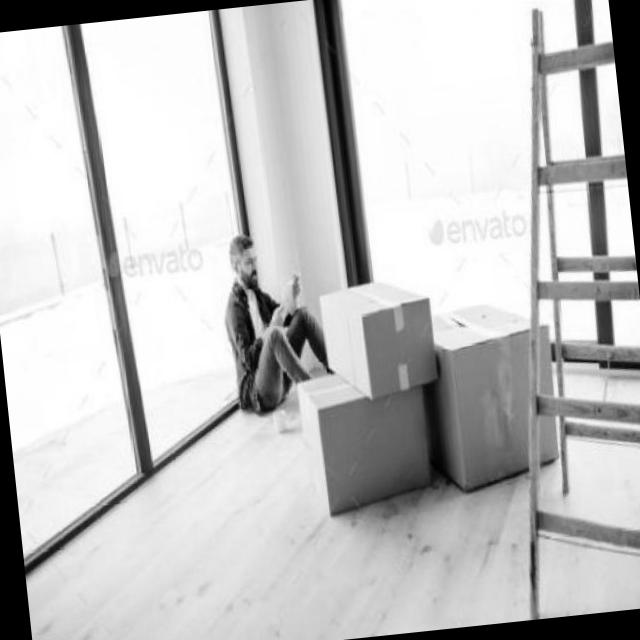box: (432, 296, 578, 504), (297, 370, 442, 533), (314, 272, 444, 404)
